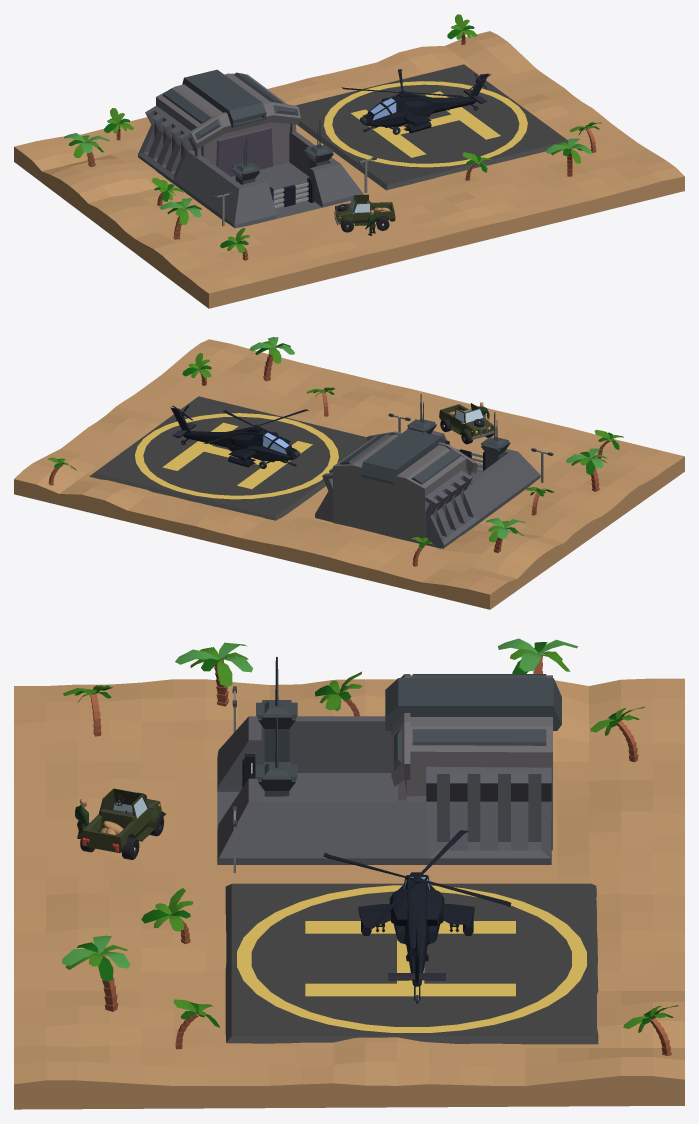
File: lowpoly_scene.fbx
3 views of the same model, one above another, from view 1: azimuth 30°, elevation 25°; view 2: azimuth 150°, elevation 25°; view 3: azimuth 270°, elevation 25° (orthographic). The views are drawn at different scales.
Visible parts, largest first — view 1: Plane, Plane.116, house_gate, house_base, main top, Cube.196, Circle.002, Text.001, Plane.095, Cube.234, gate, palm_stvol_01.001 (+7 smaller); view 2: Plane, Plane.116, house_base, house_gate, main top, Circle.002, Cube.196, Text.001, Cube.234, jeap_body.001, palm_stvol_01.002, palm_stvol_01.001 (+3 smaller); view 3: Plane, Plane.116, house_gate, Cube.196, Circle.002, house_base, main top, Text.001, Cube.234, jeap_body.001, palm_stvol_01.002, Cube.198 (+10 smaller).
Part boxes in pixels (box(x1,y1,x2,y2)): Plane: box(14, 31, 684, 308); Plane.116: box(295, 64, 568, 190); house_gate: box(138, 105, 363, 228); house_base: box(156, 73, 289, 176); main top: box(342, 69, 491, 134); Cube.196: box(182, 69, 266, 127); Circle.002: box(323, 81, 527, 167); Text.001: box(350, 91, 500, 157); Plane.095: box(189, 101, 300, 149); Cube.234: box(162, 72, 282, 123); gate: box(269, 177, 313, 208); palm_stvol_01.001: box(159, 198, 201, 239); Plane: box(14, 339, 684, 609); Plane.116: box(89, 396, 367, 520); house_base: box(332, 434, 467, 543); house_gate: box(315, 431, 540, 548); main top: box(170, 404, 308, 468); Circle.002: box(135, 413, 338, 499); Cube.196: box(360, 429, 445, 484); Text.001: box(162, 422, 312, 489); Cube.234: box(340, 433, 460, 484); jeap_body.001: box(439, 404, 493, 436); palm_stvol_01.002: box(249, 337, 294, 381); palm_stvol_01.001: box(566, 448, 607, 491); Plane: box(14, 678, 684, 1109); Plane.116: box(225, 883, 598, 1044); house_gate: box(217, 716, 551, 864); Cube.196: box(385, 678, 561, 730); Circle.002: box(237, 885, 586, 1032); house_base: box(405, 675, 552, 850); main top: box(323, 830, 511, 1003); Text.001: box(305, 921, 515, 996); Cube.234: box(412, 674, 546, 745); jeap_body.001: box(81, 788, 161, 852); palm_stvol_01.002: box(62, 935, 130, 1011); Cube.198: box(256, 700, 297, 761).
Bounding box in the file's own units: 3729 × 655 × 2643.
